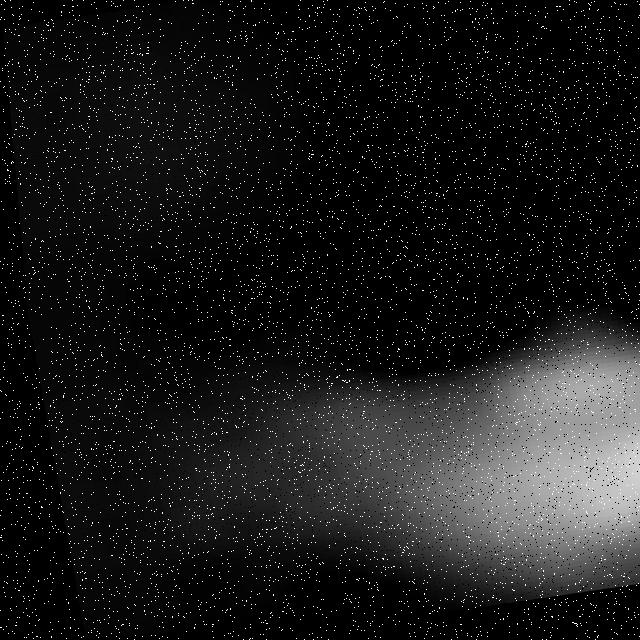person: (182, 343, 640, 634)
